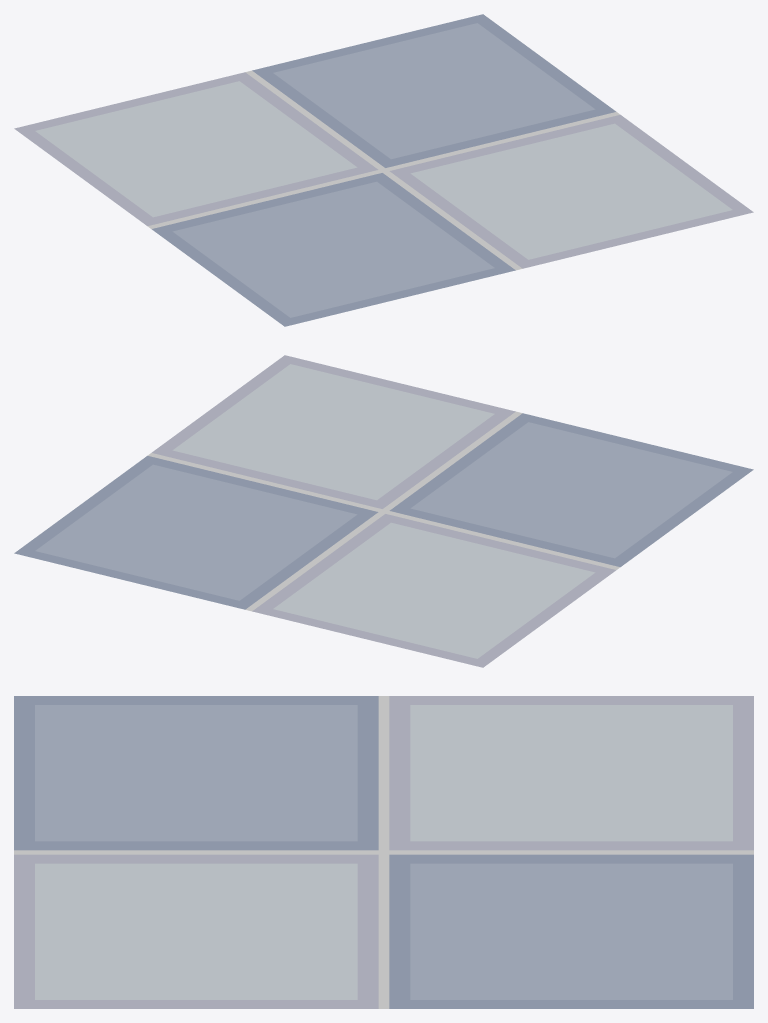
Rendered from SchoolPack2023FloorBlue.fbx.
The picture shows the model from 3 angles, top to bottom: view 1: azimuth 30°, elevation 25°; view 2: azimuth 150°, elevation 25°; view 3: azimuth 270°, elevation 25°; orthographic projection. The views are drawn at different scales.
Visible parts, largest first — view 1: Plane.014; view 2: Plane.014; view 3: Plane.014.
Boxes of the visible parts, x1,y1,x2,y2 form: Plane.014: (14, 14, 753, 326); Plane.014: (14, 355, 753, 667); Plane.014: (14, 696, 753, 1008).
Bounding box in the file's own units: 400 × 6.52e-05 × 400.
